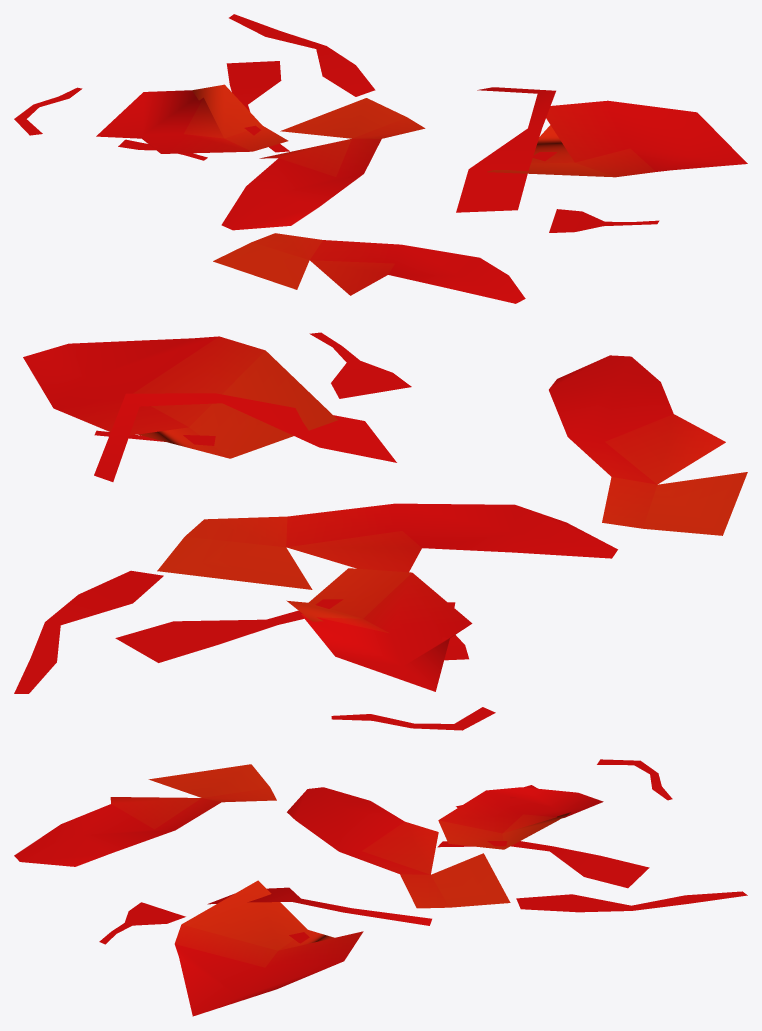
The model's file is Xanadu_LOD2_Var8_siroZ.fbx.
3 renders of one model, top to bottom at view 1: azimuth 30°, elevation 25°; view 2: azimuth 150°, elevation 25°; view 3: azimuth 270°, elevation 25°, orthographic. The views are drawn at different scales.
Visible parts, largest first — view 1: _c807_Var8_LOD2; view 2: _c807_Var8_LOD2; view 3: _c807_Var8_LOD2.
Part boxes in pixels (x1,y1,x2,y2): _c807_Var8_LOD2: [14, 14, 747, 303]; _c807_Var8_LOD2: [14, 332, 747, 730]; _c807_Var8_LOD2: [14, 759, 747, 1016].
Bounding box in the file's own units: 39.23 × 3.63 × 48.3.
